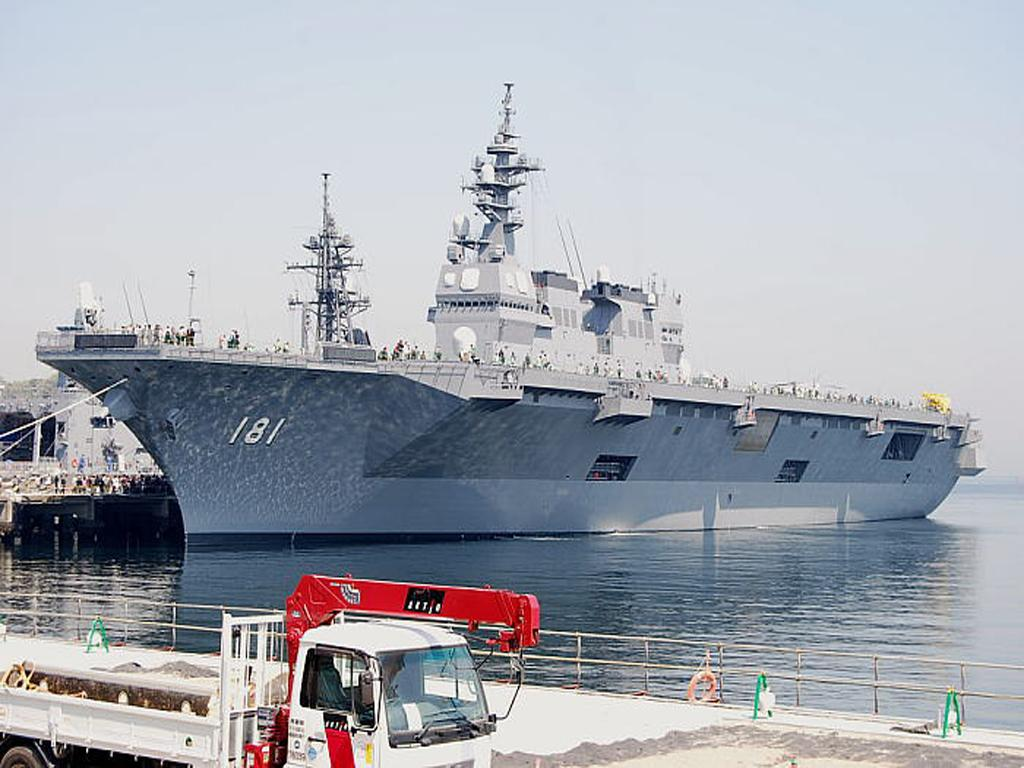Warship: (36, 77, 988, 541)
